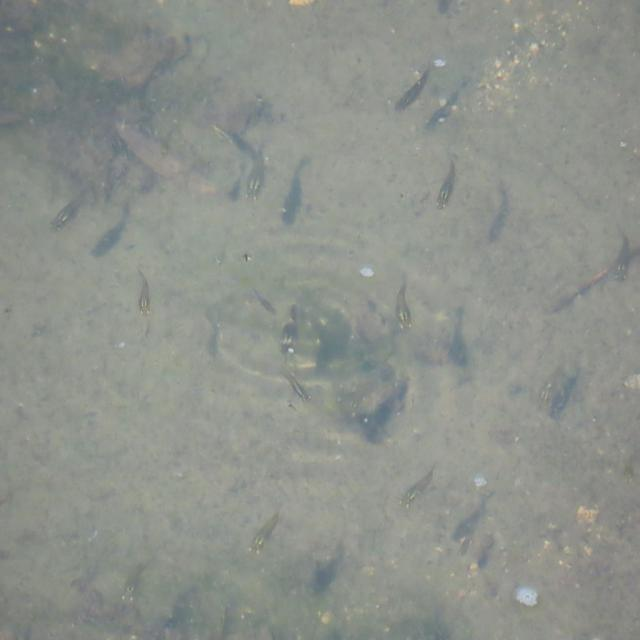Sivrisinek Baligi: (217, 124, 269, 203), (278, 153, 312, 229), (91, 201, 132, 261), (482, 176, 514, 248), (430, 148, 463, 212), (391, 62, 432, 113), (246, 502, 286, 554), (51, 181, 88, 237), (400, 462, 439, 512), (610, 216, 633, 296), (131, 267, 157, 331), (390, 275, 415, 334), (280, 365, 314, 402)
